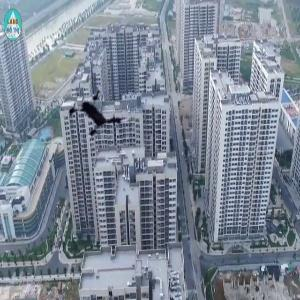drone: (58, 69, 139, 150)
